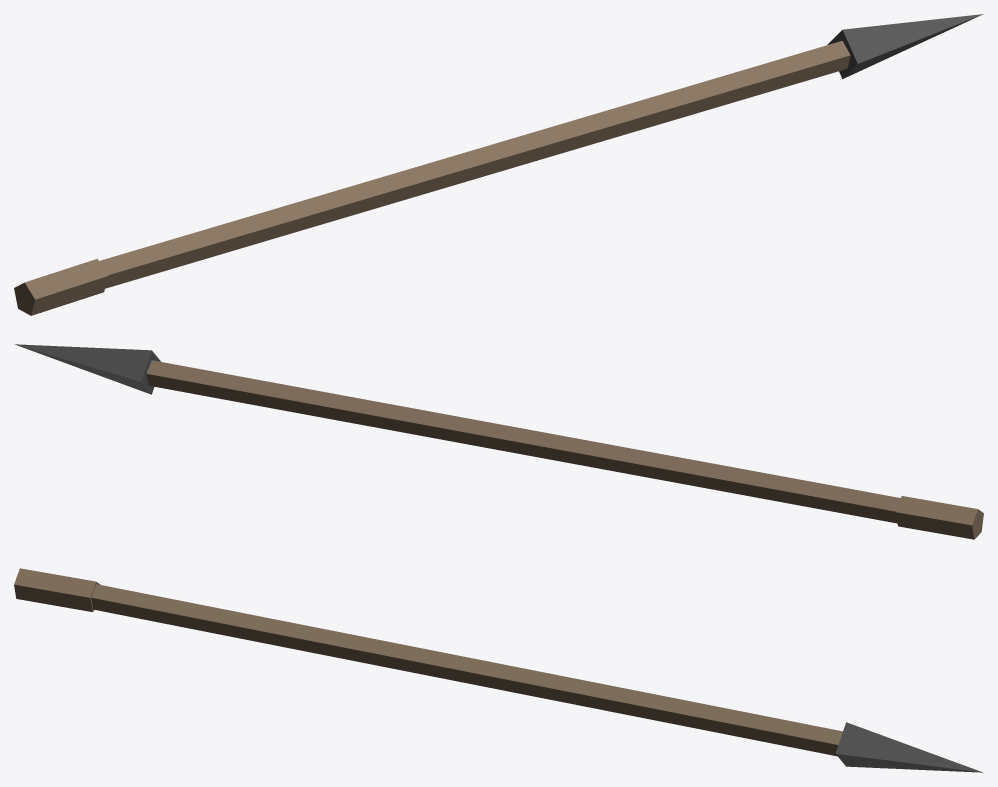
Rendered from spear_down.glb.
3 renders of one model, top to bottom at view 1: azimuth 30°, elevation 25°; view 2: azimuth 150°, elevation 25°; view 3: azimuth 330°, elevation 25°, orthographic. The views are drawn at different scales.
Parts seen in each view (by area): view 1: wood, iron; view 2: wood, iron; view 3: wood, iron.
Boxes of the visible parts, x1=… form: wood: x1=14, y1=40, x2=850, y2=315; iron: x1=827, y1=14, x2=983, y2=78; wood: x1=146, y1=360, x2=983, y2=539; iron: x1=15, y1=344, x2=160, y2=394; wood: x1=14, y1=568, x2=842, y2=756; iron: x1=835, y1=722, x2=982, y2=772.
Bounding box in the file's own units: 1.93 × 0.09 × 0.2432.
